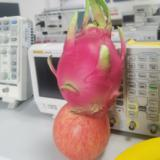apple: (53, 104, 110, 160)
pitaya: (48, 4, 125, 107)
